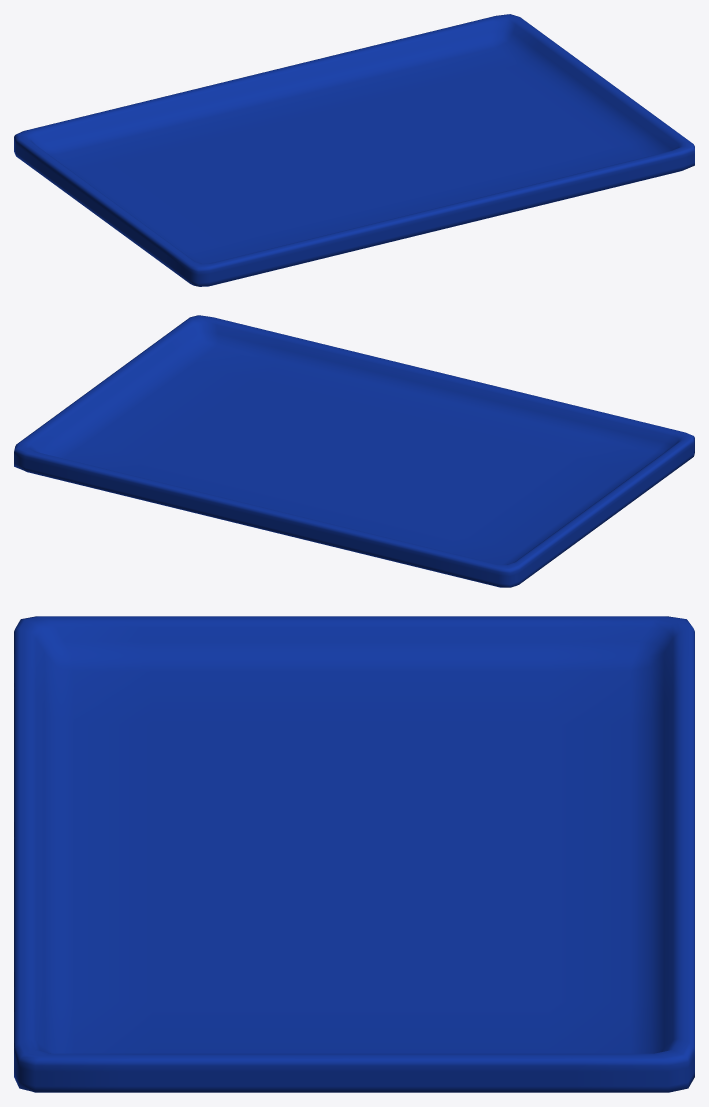
Rendered from Lunch_Tray.fbx.
The picture shows the model from 3 angles, top to bottom: view 1: azimuth 30°, elevation 25°; view 2: azimuth 150°, elevation 25°; view 3: azimuth 270°, elevation 25°; orthographic projection. The views are drawn at different scales.
Parts seen in each view (by area): view 1: Box001; view 2: Box001; view 3: Box001.
Boxes of the visible parts, x1,y1,x2,y2 form: Box001: [14, 14, 694, 286]; Box001: [14, 315, 694, 587]; Box001: [14, 616, 694, 1092].
Bounding box in the file's own units: 51.57 × 2.02 × 33.27.
